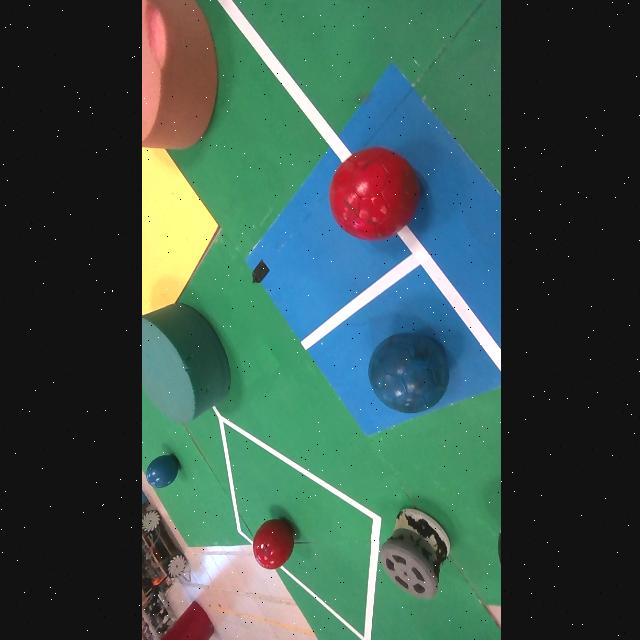B: (367, 333, 448, 414), (144, 455, 176, 489)
R: (328, 146, 419, 241), (251, 519, 291, 570)
